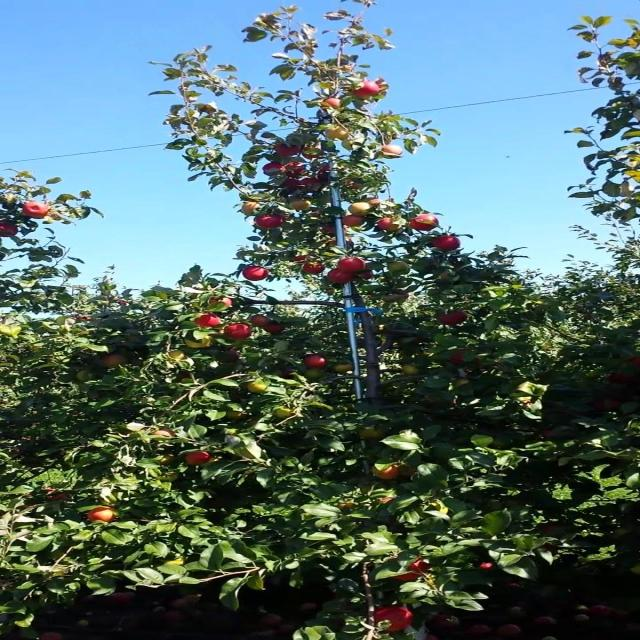apple: (376, 608, 414, 633), (397, 560, 432, 583), (355, 80, 382, 99), (433, 236, 462, 252), (412, 216, 441, 232), (596, 396, 624, 412), (376, 464, 402, 480), (92, 508, 119, 523), (227, 324, 252, 340), (184, 452, 213, 465), (255, 216, 284, 229), (326, 272, 356, 284), (42, 488, 71, 500), (184, 336, 213, 348), (383, 292, 412, 304), (340, 260, 368, 272), (28, 204, 50, 219), (326, 236, 356, 247), (611, 372, 638, 384), (305, 144, 324, 160), (326, 128, 350, 140), (276, 144, 300, 156), (362, 428, 386, 440), (383, 144, 405, 157), (248, 268, 270, 280), (305, 356, 327, 368), (348, 204, 370, 216), (198, 316, 220, 328), (291, 200, 313, 212), (333, 236, 356, 247), (305, 264, 327, 275), (447, 312, 469, 323), (1, 224, 21, 236), (106, 356, 126, 368), (305, 368, 325, 380), (227, 348, 242, 363), (264, 164, 284, 175), (276, 408, 297, 418), (383, 220, 400, 232), (404, 364, 421, 376), (248, 384, 270, 393), (348, 216, 364, 228), (390, 264, 411, 273), (333, 364, 356, 372), (291, 164, 306, 176), (369, 196, 384, 208), (284, 180, 302, 190), (454, 352, 468, 364), (255, 316, 270, 327), (540, 524, 558, 533), (212, 300, 235, 307), (227, 412, 247, 420), (440, 316, 460, 324), (340, 500, 356, 510), (305, 152, 324, 160), (376, 496, 395, 504), (307, 176, 320, 187), (625, 356, 638, 367), (291, 256, 311, 263), (170, 352, 187, 360), (269, 324, 284, 333), (348, 180, 363, 189), (319, 164, 334, 173), (248, 204, 260, 215), (326, 100, 341, 108), (6, 328, 21, 336), (362, 272, 377, 280), (156, 432, 178, 437), (319, 172, 329, 183), (326, 228, 340, 235), (483, 564, 496, 571), (547, 428, 555, 436), (284, 372, 293, 378), (348, 144, 356, 148)
